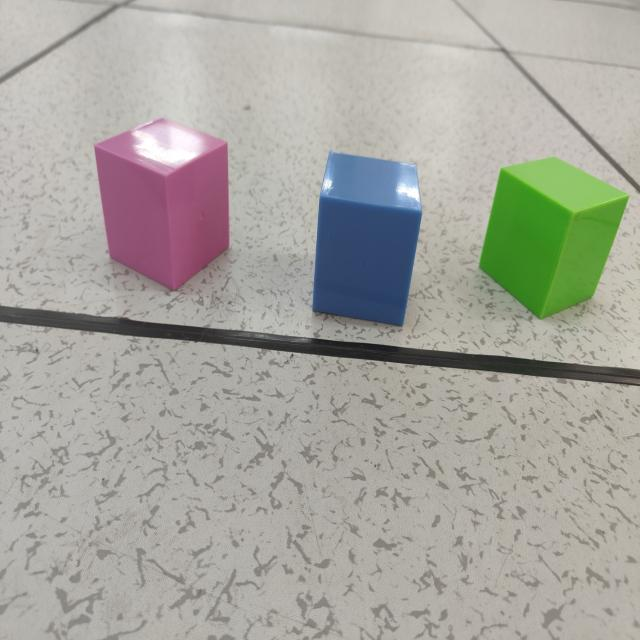blue: (312, 153, 423, 329)
green: (477, 158, 628, 321)
pink: (94, 118, 232, 293)
